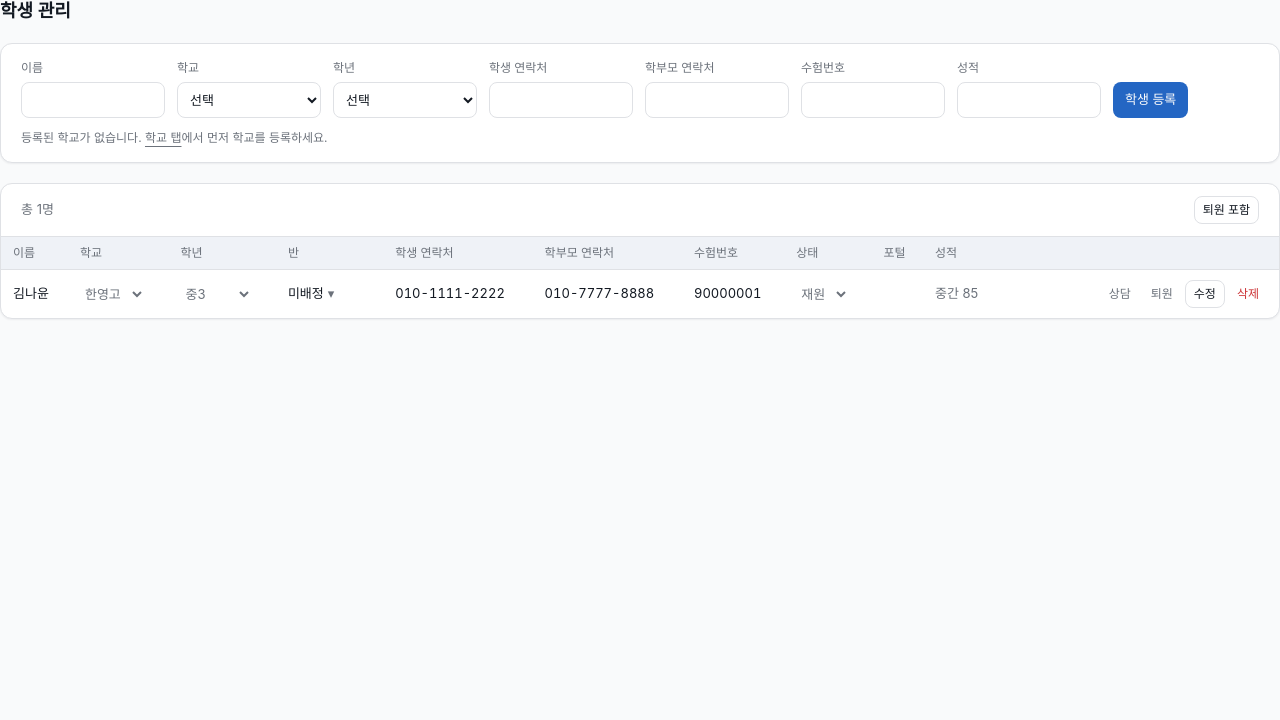
Test: StudentsPage grade and status dropdowns › keeps a grade outside the list when editing
Click the button "수정" at (1205, 294), box [1185, 280, 1225, 308]
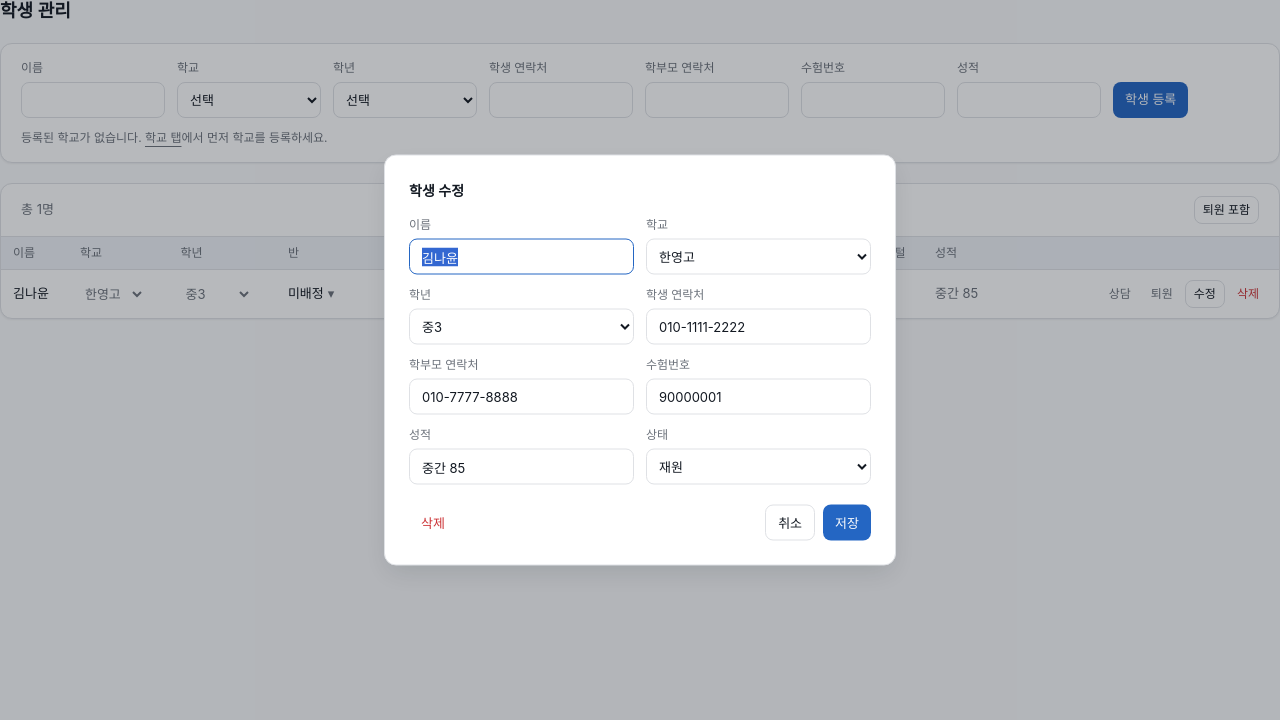
Now the dropdown labelled "학년" shows "중3", box [409, 308, 634, 344]
